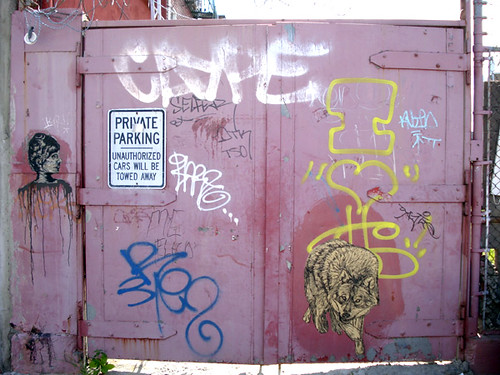graffiti: (300, 74, 444, 360), (112, 28, 329, 118), (95, 235, 245, 359), (160, 143, 252, 232)
sign: (104, 111, 173, 194)
